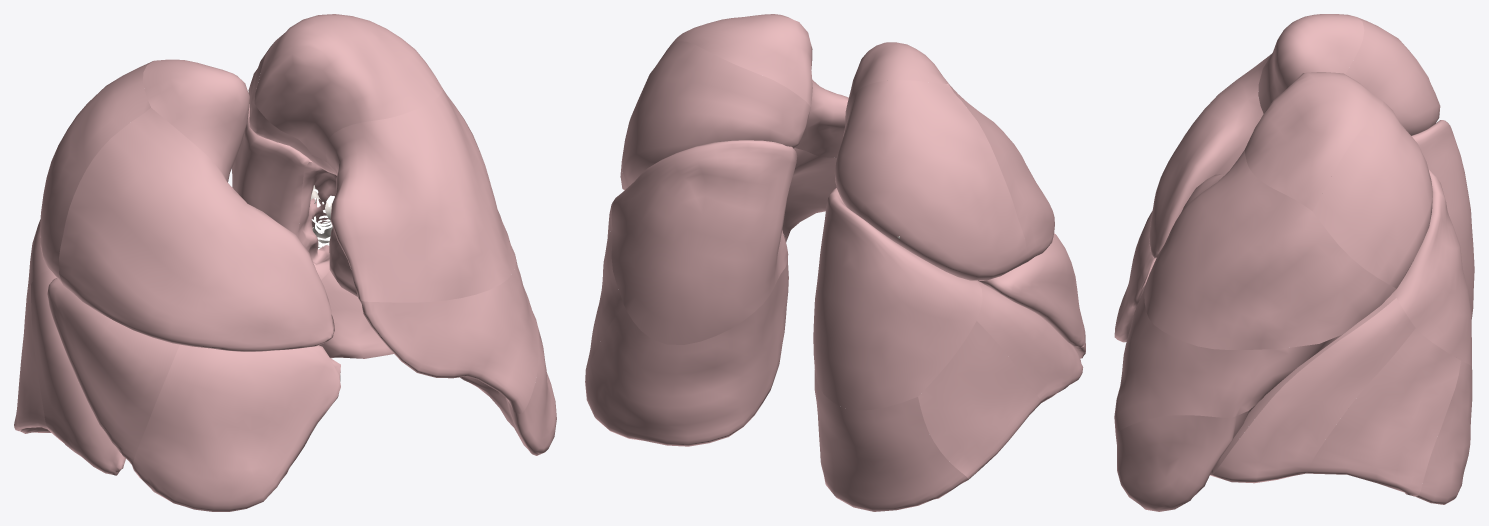
File: lungs.glb
3 renders of one model, left to right at view 1: azimuth 30°, elevation 25°; view 2: azimuth 150°, elevation 25°; view 3: azimuth 270°, elevation 25°, orthographic. The views are drawn at different scales.
Parts seen in each view (by area): view 1: VH_M_right_anterior_bronchopulmonary_segment, VH_M_left_anterior_bronchopulmonary_segment, VH_M_right_medial_bronchopulmonary_segment, VH_M_left_apical_bronchopulmonary_segment, VH_M_left_lingula_superior_bronchopulmonary_segment, VH_M_right_lateral_bronchopulmonary_segment, VH_M_right_apical_bronchopulmonary_segment, VH_M_right_posterior_bronchopulmonary_segment, VH_M_right_anterior_basal_bronchopulmonary_segment, VH_M_left_superior_bronchopulmonary_segment, VH_M_left_lingula_inferior_bronchopulmonary_segment, VH_M_left_medial_basal_bronchopulmonary_segment (+5 smaller); view 2: VH_M_left_superior_bronchopulmonary_segment, VH_M_right_posterior_bronchopulmonary_segment, VH_M_right_superior_bronchopulmonary_segment, VH_M_left_posetrior_basal_bronchopulmonary_segment, VH_M_left_posterior_bronchopulmonary_segment, VH_M_right_posterior_basal_bronchopulmonary_segment, VH_M_right_lateral_basal_bronchopulmonary_segment, VH_M_left_apical_bronchopulmonary_segment, VH_M_right_anterior_basal_bronchopulmonary_segment, VH_M_right_lateral_bronchopulmonary_segment, VH_M_right_anterior_bronchopulmonary_segment, VH_M_left_lingula_superior_bronchopulmonary_segment (+3 smaller); view 3: VH_M_left_anterior_bronchopulmonary_segment, VH_M_left_lateral_basal_bronchopulmonary_segment, VH_M_left_posterior_bronchopulmonary_segment, VH_M_left_anterior_basal_bronchopulmonary_segment, VH_M_left_lingula_superior_bronchopulmonary_segment, VH_M_left_apical_bronchopulmonary_segment, VH_M_left_lingula_inferior_bronchopulmonary_segment, VH_M_right_anterior_bronchopulmonary_segment, VH_M_left_superior_bronchopulmonary_segment, VH_M_right_apical_bronchopulmonary_segment, VH_M_right_posterior_bronchopulmonary_segment, VH_M_left_posetrior_basal_bronchopulmonary_segment (+3 smaller).
Part boxes in pixels (x1,y1,x2,y2): VH_M_right_anterior_bronchopulmonary_segment: (59,108,334,351); VH_M_left_anterior_bronchopulmonary_segment: (325,89,516,302); VH_M_right_medial_bronchopulmonary_segment: (132,344,340,511); VH_M_left_apical_bronchopulmonary_segment: (254,14,442,162); VH_M_left_lingula_superior_bronchopulmonary_segment: (359,256,538,413); VH_M_right_lateral_bronchopulmonary_segment: (47,278,179,465); VH_M_right_apical_bronchopulmonary_segment: (143,59,249,182); VH_M_right_posterior_bronchopulmonary_segment: (40,61,152,284); VH_M_right_anterior_basal_bronchopulmonary_segment: (31,269,125,475); VH_M_left_superior_bronchopulmonary_segment: (232,104,312,237); VH_M_left_lingula_inferior_bronchopulmonary_segment: (329,245,556,455); VH_M_left_medial_basal_bronchopulmonary_segment: (319,271,393,358); VH_M_left_superior_bronchopulmonary_segment: (611,140,797,344); VH_M_right_posterior_bronchopulmonary_segment: (834,80,1027,280); VH_M_right_superior_bronchopulmonary_segment: (813,187,982,410); VH_M_left_posetrior_basal_bronchopulmonary_segment: (585,262,788,446); VH_M_left_posterior_bronchopulmonary_segment: (622,41,810,186); VH_M_right_posterior_basal_bronchopulmonary_segment: (814,369,968,511); VH_M_right_lateral_basal_bronchopulmonary_segment: (918,321,1040,479); VH_M_left_apical_bronchopulmonary_segment: (669,14,812,106); VH_M_right_anterior_basal_bronchopulmonary_segment: (976,280,1083,402); VH_M_right_lateral_bronchopulmonary_segment: (978,233,1084,348); VH_M_right_anterior_bronchopulmonary_segment: (949,84,1054,261); VH_M_left_lingula_superior_bronchopulmonary_segment: (623,148,836,239); VH_M_left_anterior_bronchopulmonary_segment: (1144,149,1396,349); VH_M_left_lateral_basal_bronchopulmonary_segment: (1306,328,1460,496); VH_M_left_posterior_bronchopulmonary_segment: (1313,102,1432,288); VH_M_left_anterior_basal_bronchopulmonary_segment: (1210,298,1415,483); VH_M_left_lingula_superior_bronchopulmonary_segment: (1114,282,1391,434); VH_M_left_apical_bronchopulmonary_segment: (1245,72,1383,211); VH_M_left_lingula_inferior_bronchopulmonary_segment: (1115,403,1257,511); VH_M_right_anterior_bronchopulmonary_segment: (1149,53,1272,258); VH_M_left_superior_bronchopulmonary_segment: (1393,168,1471,366); VH_M_right_apical_bronchopulmonary_segment: (1258,14,1364,113); VH_M_right_posterior_bronchopulmonary_segment: (1345,17,1440,135); VH_M_left_posetrior_basal_bronchopulmonary_segment: (1416,361,1472,504).
Size of the model in its own units: 0.2594 by 0.2291 by 0.1897.
